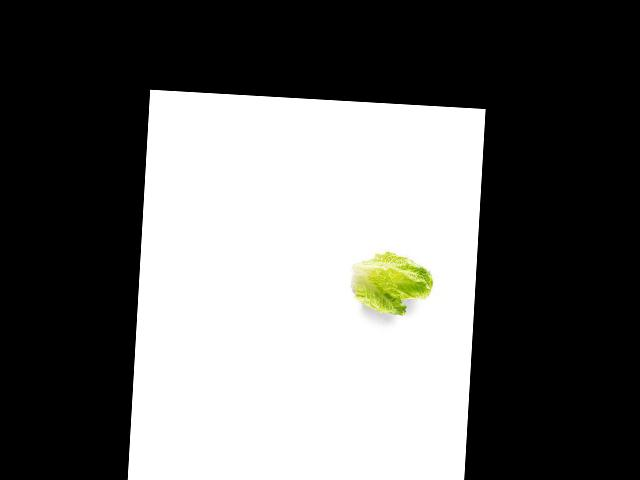lettuce: (334, 220, 430, 333)
